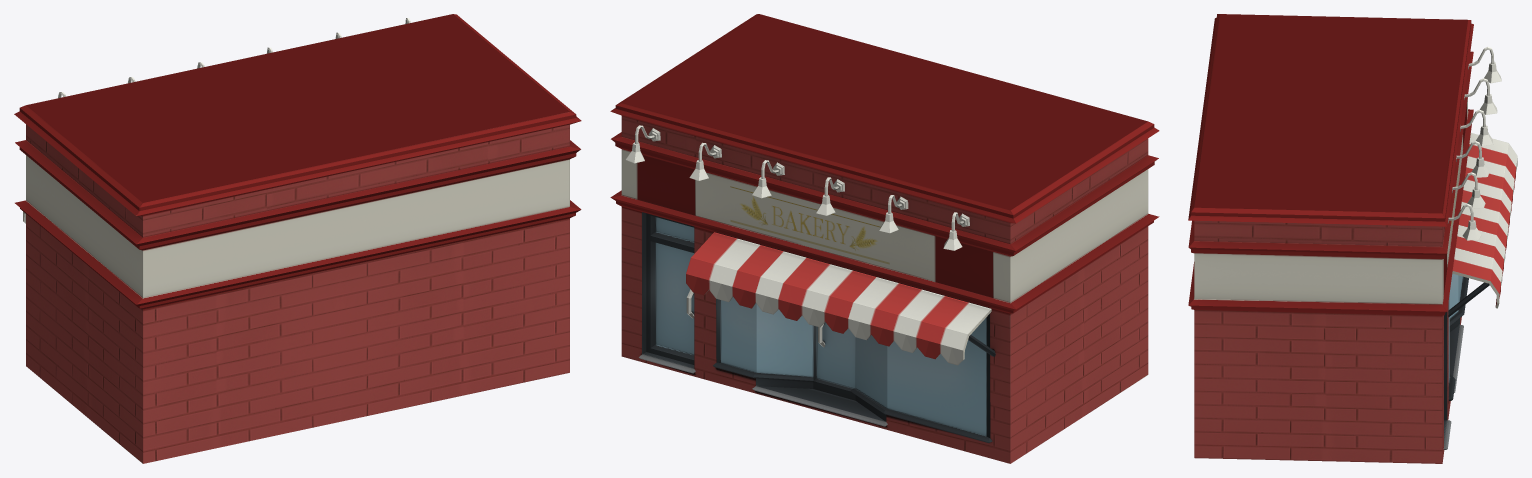
Rendered from bakery_mesh_lev3.glb.
3 views of the same model, side by side, from view 1: azimuth 30°, elevation 25°; view 2: azimuth 150°, elevation 25°; view 3: azimuth 270°, elevation 25° (orthographic). The views are drawn at different scales.
Visible parts, largest first — view 1: bakery_mesh_lev3; view 2: bakery_mesh_lev3; view 3: bakery_mesh_lev3.
Part boxes in pixels (x1=…): bakery_mesh_lev3: x1=14, y1=14, x2=581, y2=463; bakery_mesh_lev3: x1=610, y1=14, x2=1159, y2=463; bakery_mesh_lev3: x1=1188, y1=14, x2=1517, y2=463.
Bounding box in the file's own units: 11 × 6.16 × 7.35.
Materials: 1 (1 with a texture image).
